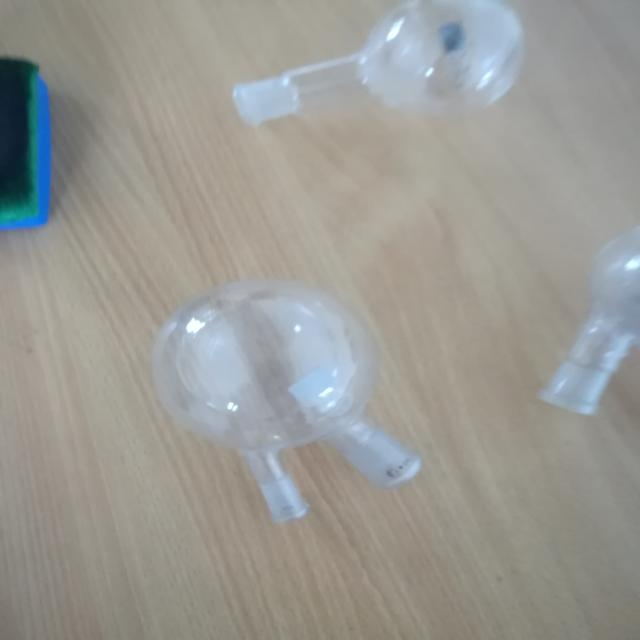Round_Bottom_Flask_Borosilicate_Glass_1_Neck: (201, 13, 604, 145)
Round_Bottom_Flask_Borosilicate_Glass_2_Neck: (166, 273, 432, 545)
